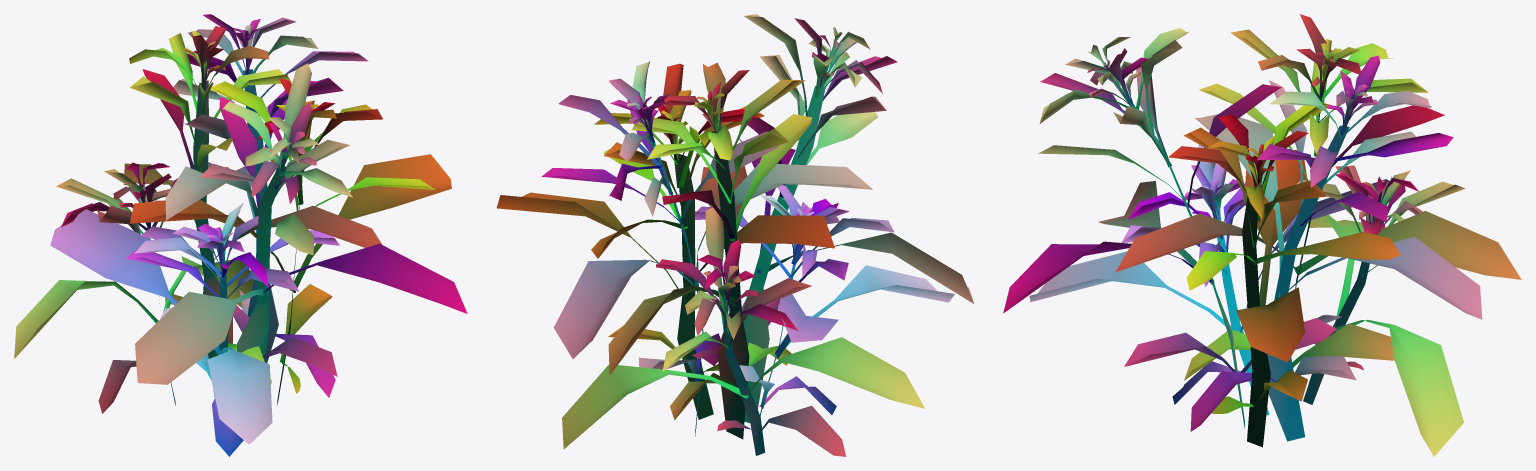
Rendered from Sage_ve3gbfoja_Mid_ve3gbfoja_VarD_LOD2.fbx.
The picture shows the model from 3 angles, left to right: view 1: azimuth 30°, elevation 25°; view 2: azimuth 150°, elevation 25°; view 3: azimuth 270°, elevation 25°; orthographic projection. The views are drawn at different scales.
Parts seen in each view (by area): view 1: _vf49_VarD_LOD4; view 2: _vf49_VarD_LOD4; view 3: _vf49_VarD_LOD4.
Boxes of the visible parts, <box> form: _vf49_VarD_LOD4: <box>14,14,467,456</box>; _vf49_VarD_LOD4: <box>496,14,974,456</box>; _vf49_VarD_LOD4: <box>1003,14,1521,456</box>.
Size of the model in its own units: 71.99 by 60.1 by 70.16.
